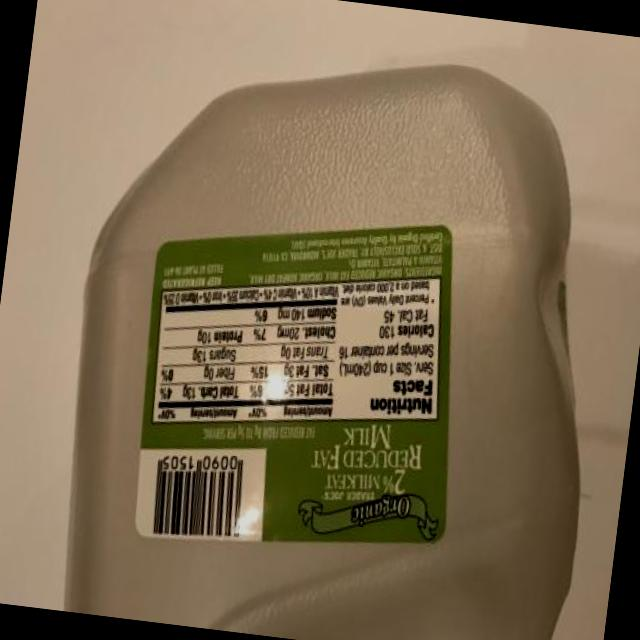Recycle: (44, 43, 624, 640)
